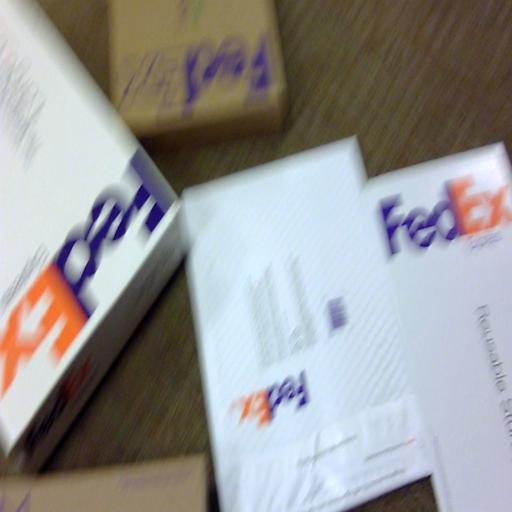Amazon: (176, 150, 428, 500), (0, 0, 188, 441), (369, 153, 512, 512), (77, 2, 288, 129)
